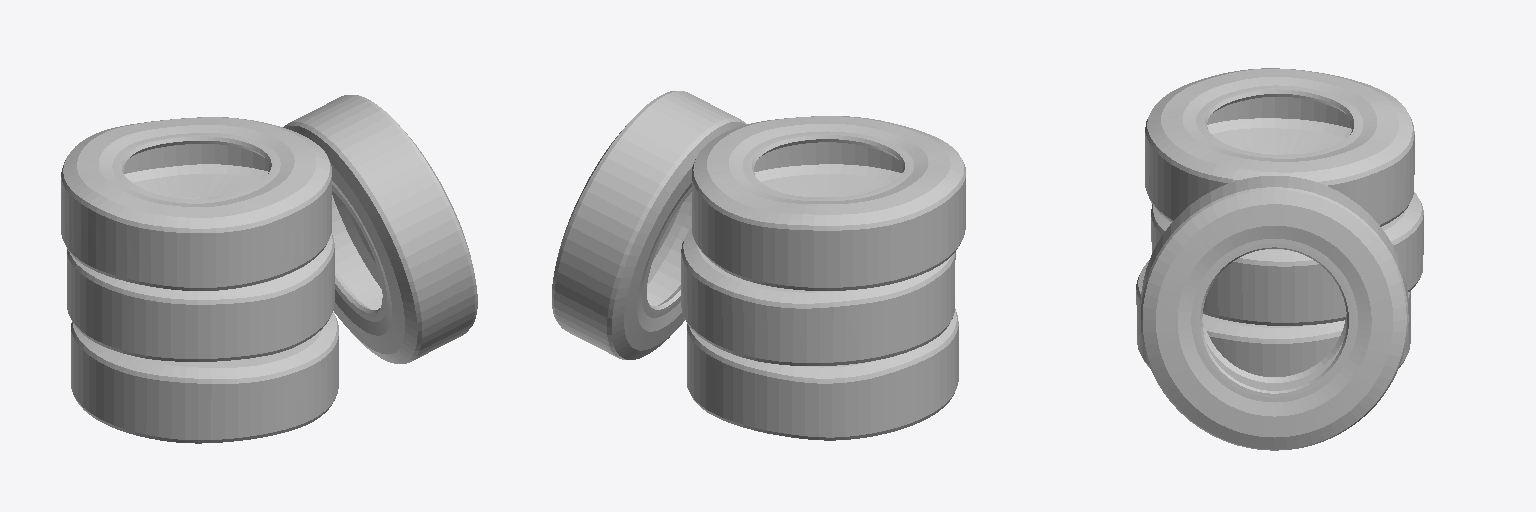
File: tires.obj
3 renders of one model, left to right at view 1: azimuth 30°, elevation 25°; view 2: azimuth 150°, elevation 25°; view 3: azimuth 270°, elevation 25°, orthographic.
Visible parts, largest first — view 1: Tires group1; view 2: Tires group1; view 3: Tires group1.
Boxes of the visible parts, x1=… form: Tires group1: x1=61, y1=95, x2=477, y2=443; Tires group1: x1=552, y1=91, x2=965, y2=440; Tires group1: x1=1136, y1=68, x2=1423, y2=450.
Size of the model in its own units: 0.0571 by 0.0382 by 0.04.